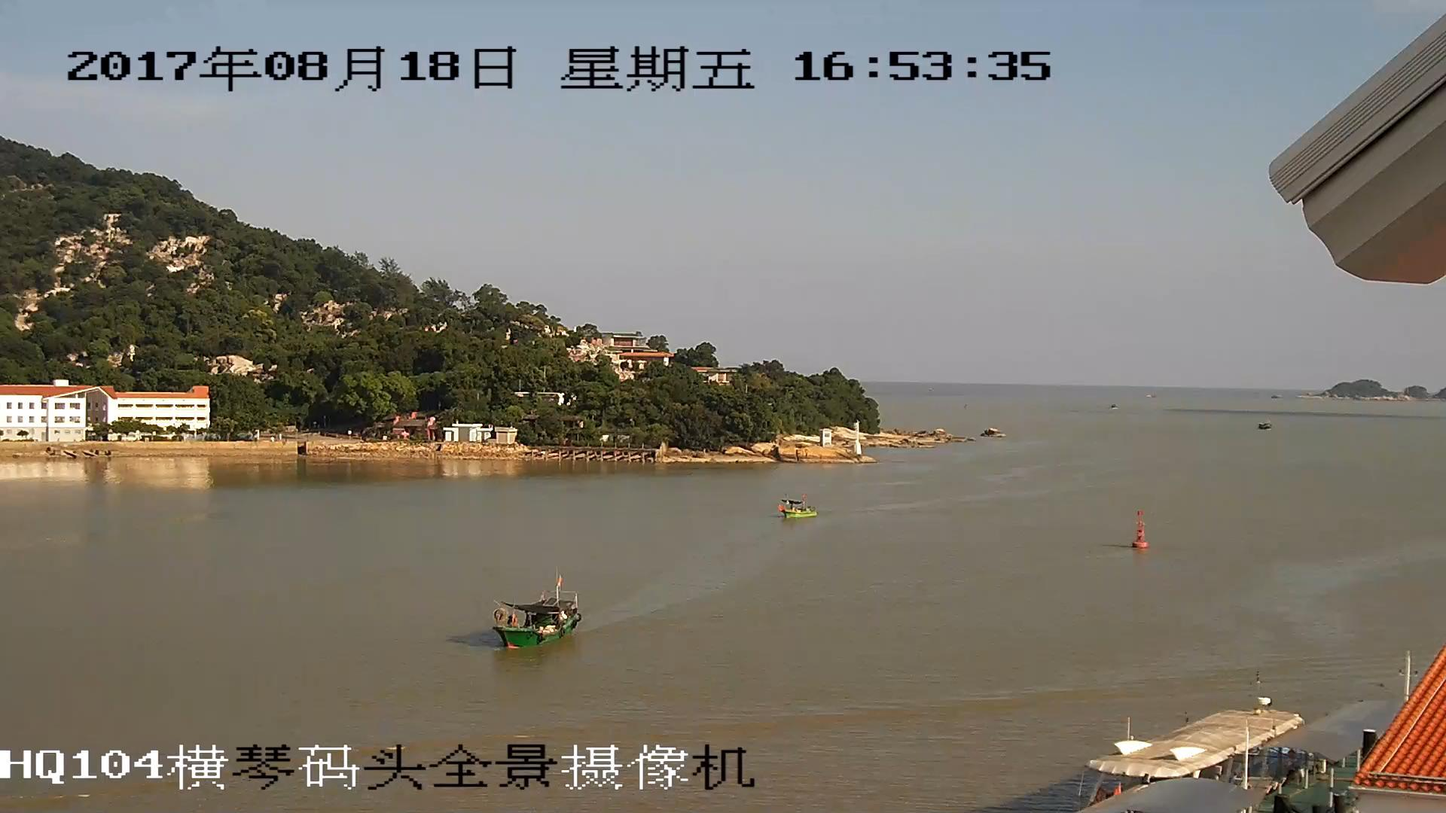fishing boat: (492, 591, 584, 647), (781, 500, 814, 516)
